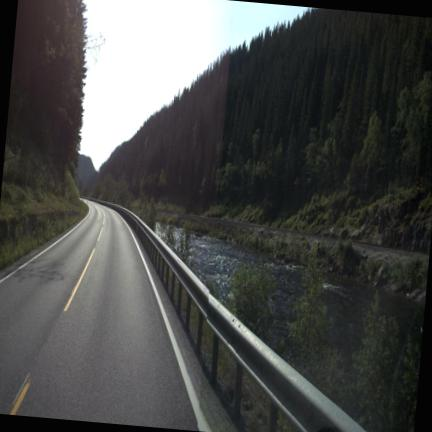Road: (0, 203, 197, 429)
